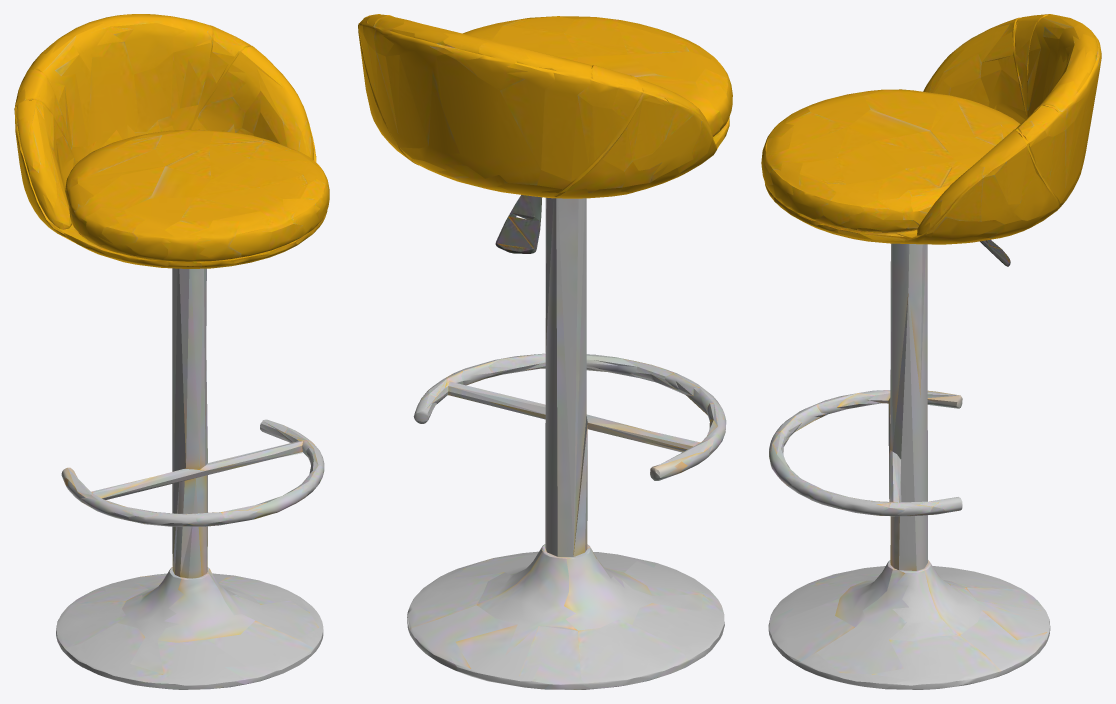
Rendered from addy_bar_stool.glb.
3 renders of one model, left to right at view 1: azimuth 30°, elevation 25°; view 2: azimuth 150°, elevation 25°; view 3: azimuth 270°, elevation 25°, orthographic. The views are drawn at different scales.
Bounding box in the file's own units: 0.9934 × 1.9 × 0.9956.
1 material, 1 textured.
